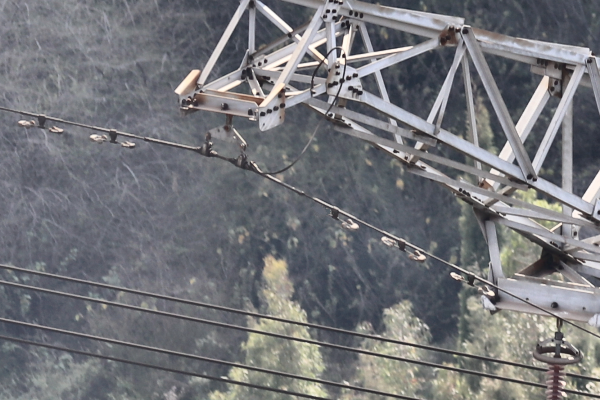damper: (447, 268, 497, 300), (380, 233, 428, 264), (14, 112, 64, 136), (89, 126, 136, 150)
damper_defect: (323, 202, 360, 231)
